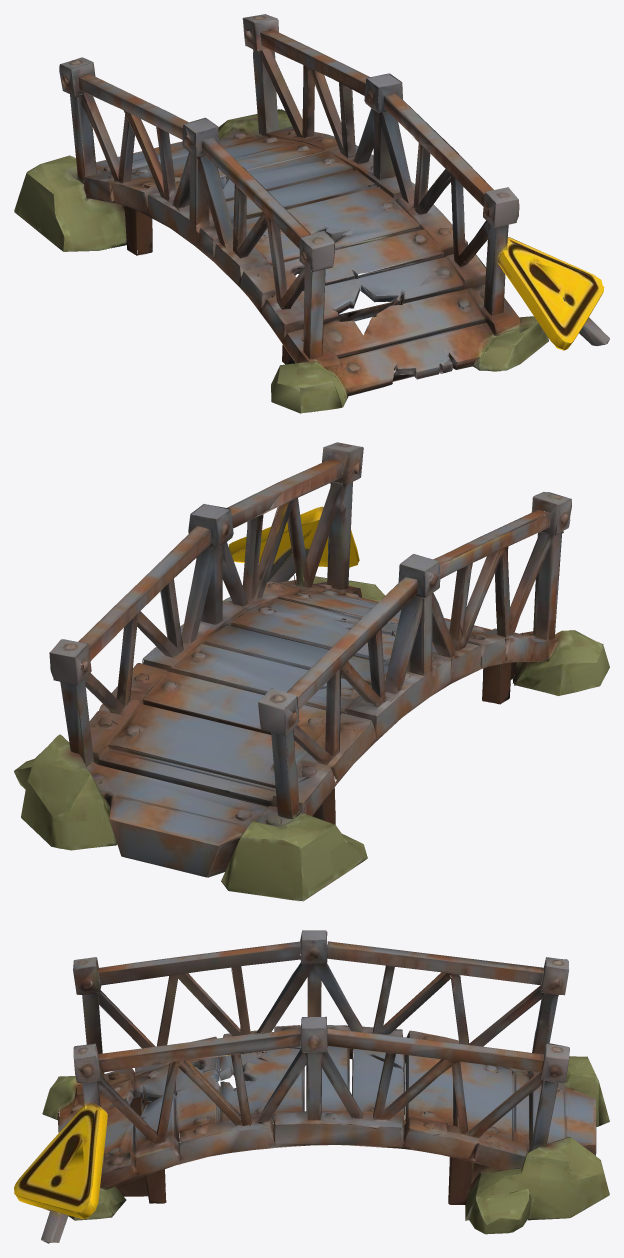
File: bridge.glb
3 views of the same model, one above another, from view 1: azimuth 30°, elevation 25°; view 2: azimuth 150°, elevation 25°; view 3: azimuth 270°, elevation 25° (orthographic). The views are drawn at different scales.
Parts seen in each view (by area): view 1: bridge; view 2: bridge; view 3: bridge.
Part boxes in pixels (x1,y1,x2,y2): bridge: (14,14,609,413); bridge: (14,442,609,901); bridge: (14,930,609,1243).
Size of the model in its own units: 0.6377 by 0.3408 by 1.02.
1 material, 1 textured.
